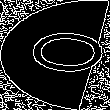O_E: (6, 29, 104, 81)
